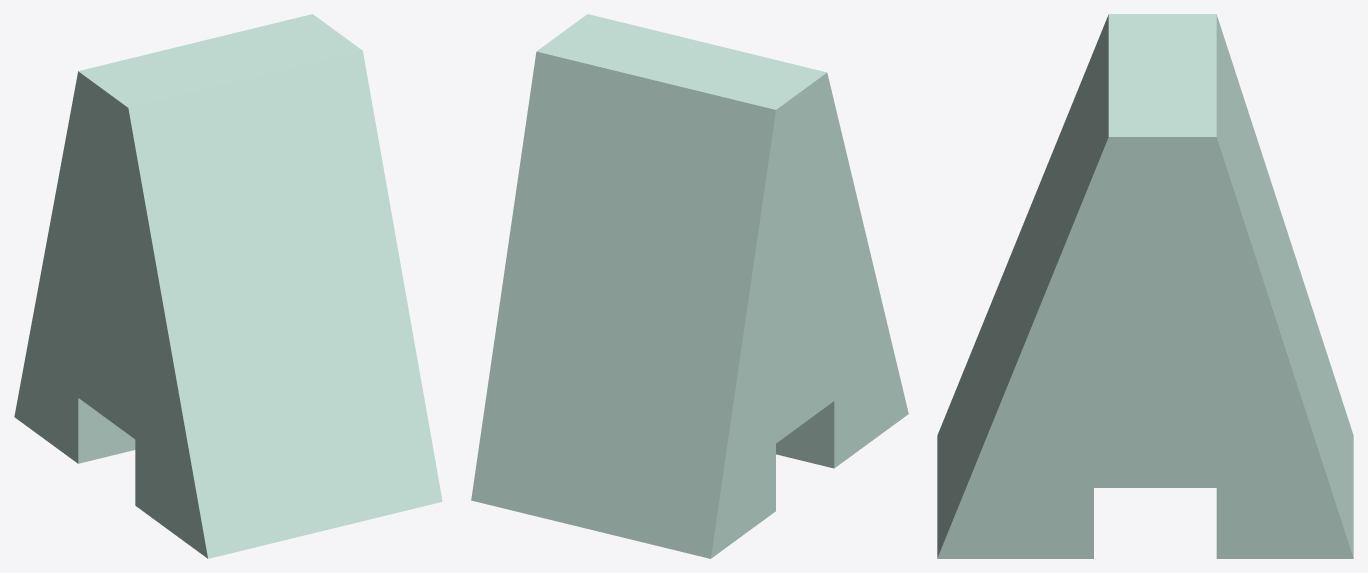
The picture shows the model from 3 angles, left to right: view 1: azimuth 30°, elevation 25°; view 2: azimuth 150°, elevation 25°; view 3: azimuth 270°, elevation 25°; orthographic projection. The views are drawn at different scales.
Visible parts, largest first — view 1: Renderer Node; view 2: Renderer Node; view 3: Renderer Node.
Boxes of the visible parts, box(x1,y1,x2,y2) form: Renderer Node: box(14, 14, 442, 558); Renderer Node: box(471, 14, 908, 558); Renderer Node: box(937, 14, 1353, 558).
Size of the model in its own units: 0.4688 by 0.75 by 0.6711.
